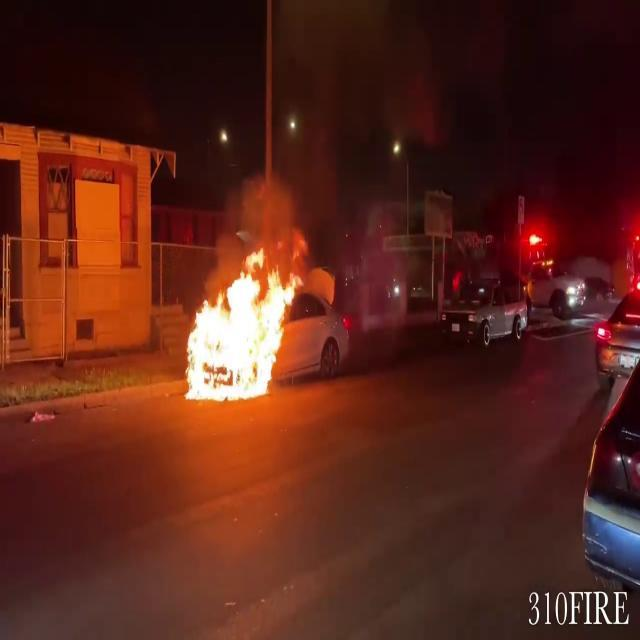Fire: (178, 240, 302, 404)
Smoke: (247, 0, 425, 240)
